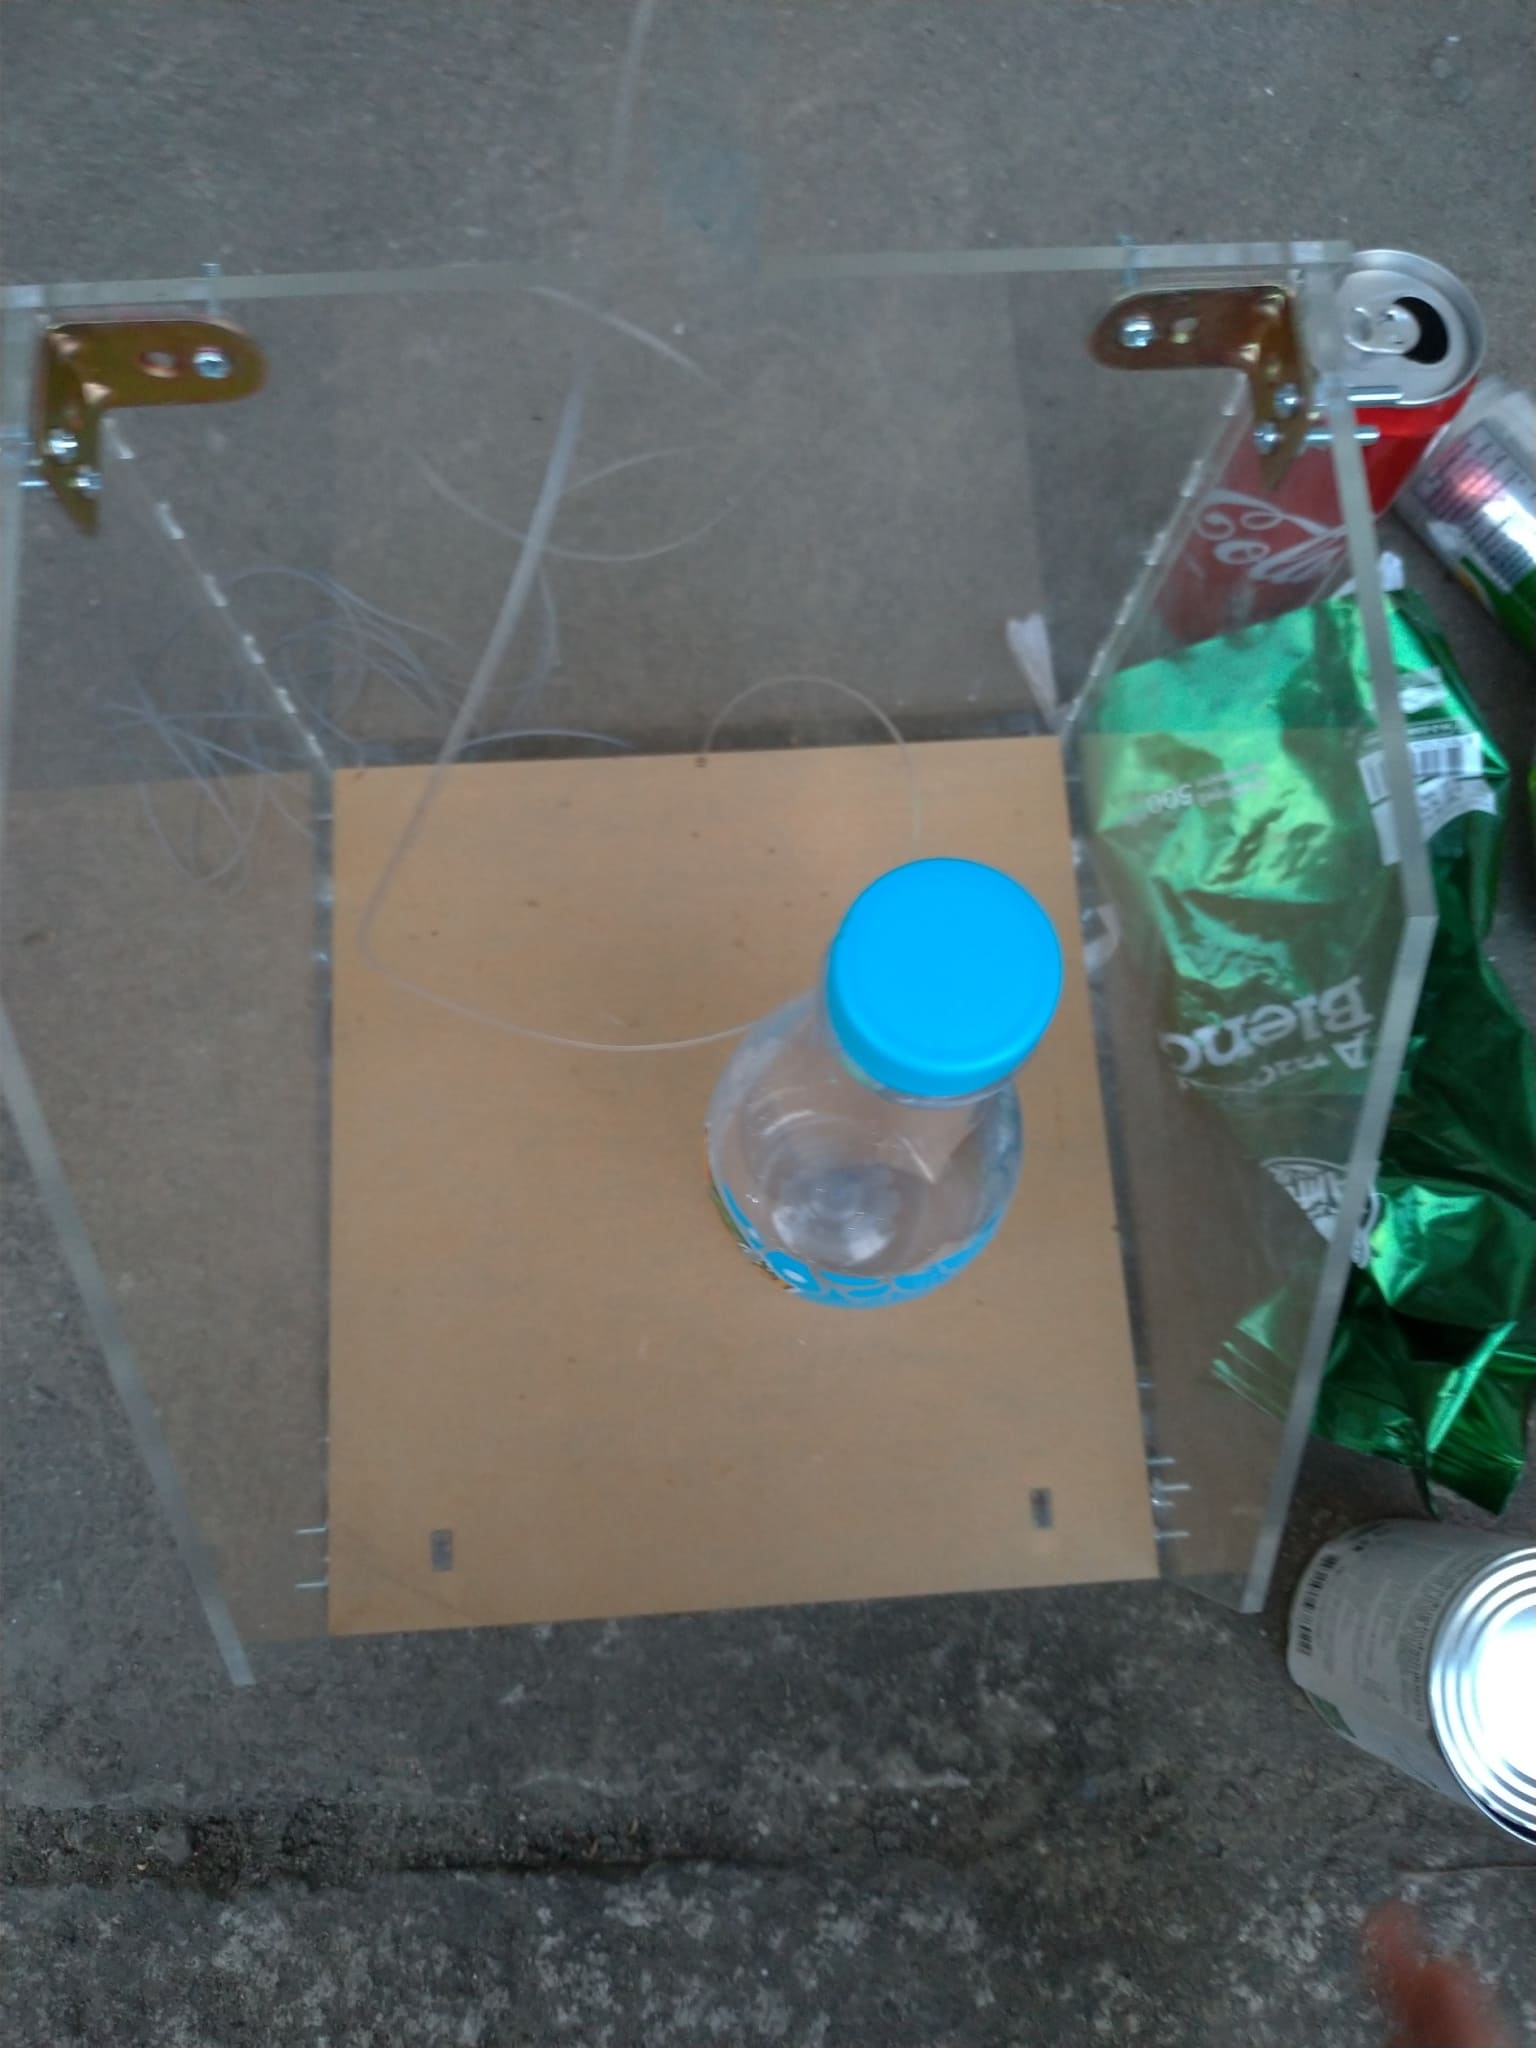AlCan: (1157, 242, 1483, 622), (1283, 1509, 1536, 1829)
Others: (1083, 603, 1536, 1488)
PlasticBottle: (712, 855, 1063, 1293)
